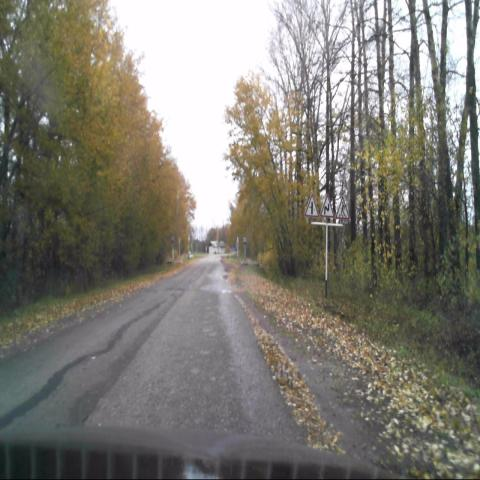1_12: (320, 193, 334, 217)
2_3_3: (305, 193, 318, 218)
